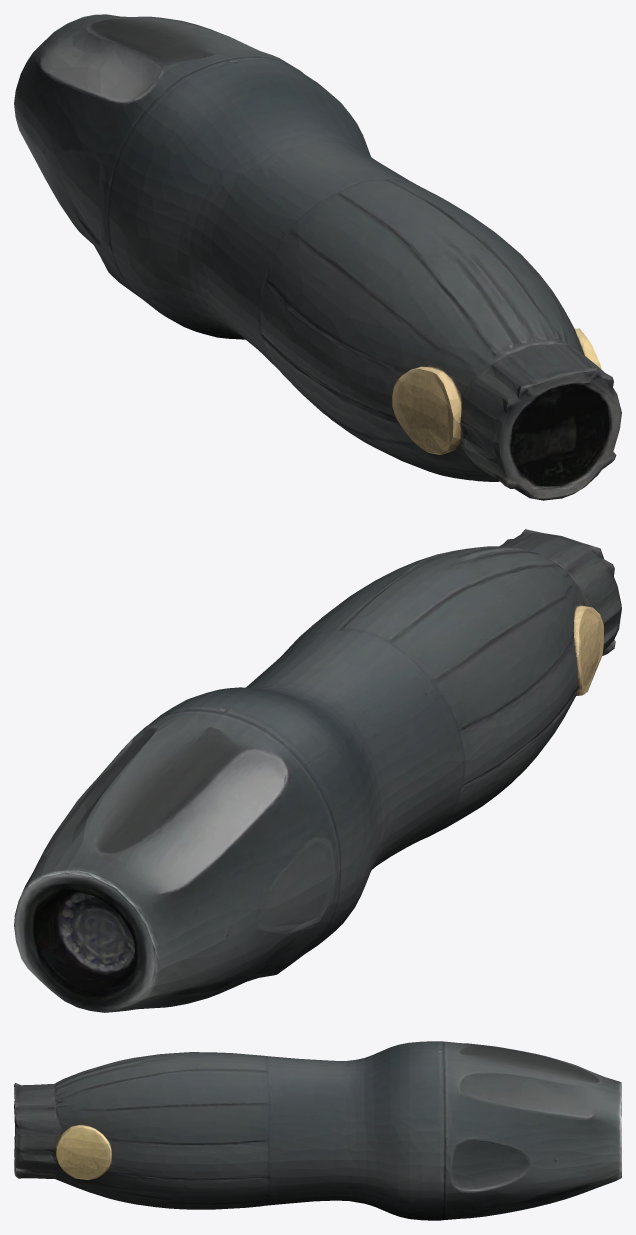
Rendered from papapenv2.glb.
3 views of the same model, one above another, from view 1: azimuth 30°, elevation 25°; view 2: azimuth 150°, elevation 25°; view 3: azimuth 270°, elevation 25° (orthographic). The views are drawn at different scales.
Visible parts, largest first — view 1: world; view 2: world; view 3: world.
Part boxes in pixels (x1,y1,x2,y2): world: [14, 14, 621, 500]; world: [14, 529, 621, 1012]; world: [14, 1041, 621, 1220].
Size of the model in its own units: 0.2826 by 0.297 by 1.
1 material, 1 textured.
